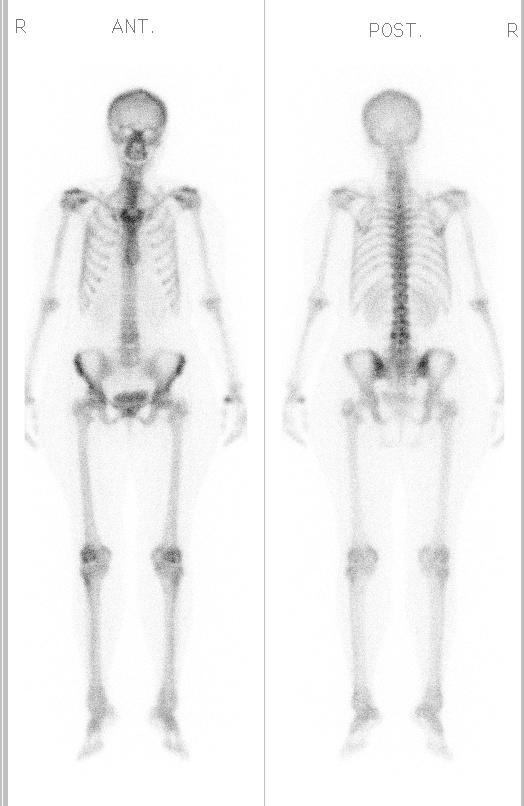person: (6, 1, 520, 806)
